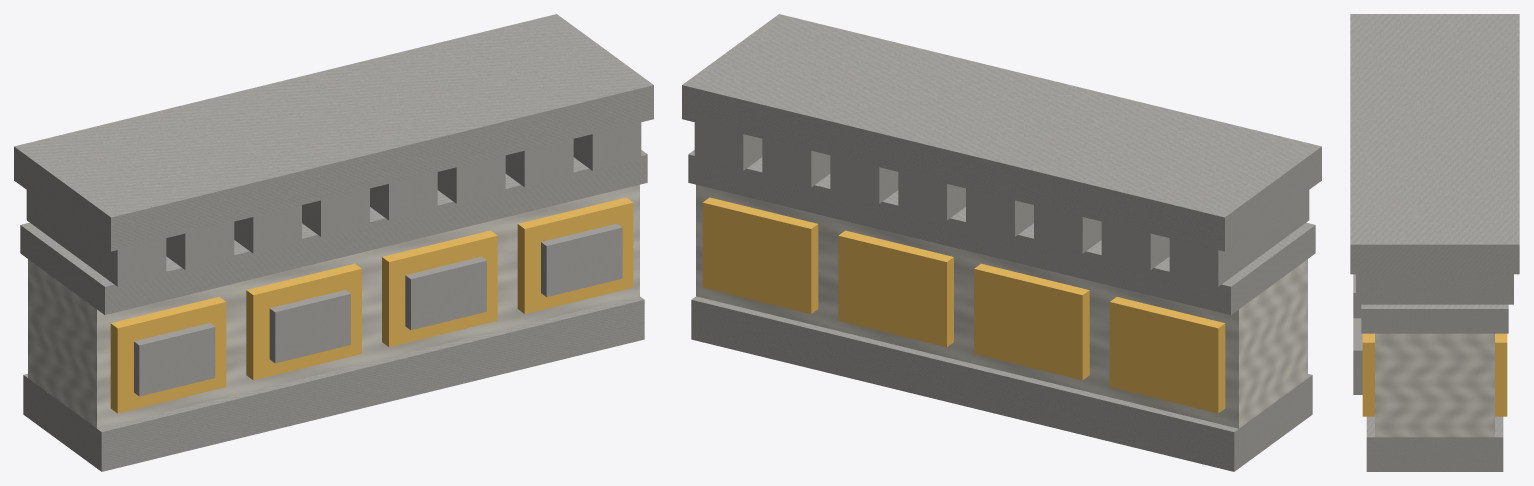
The model's file is indian-bazaar-street-and-temple-carved-tier-band-633e961b__36536.glb.
The picture shows the model from 3 angles, left to right: view 1: azimuth 30°, elevation 25°; view 2: azimuth 150°, elevation 25°; view 3: azimuth 270°, elevation 25°; orthographic projection. The views are drawn at different scales.
Visible parts, largest first — view 1: carved-tier-band-stone, carved-tier-band-plaster, carved-tier-band-saffron; view 2: carved-tier-band-stone, carved-tier-band-saffron, carved-tier-band-plaster; view 3: carved-tier-band-stone, carved-tier-band-plaster, carved-tier-band-saffron.
Part boxes in pixels (x1,y1,x2,y2): carved-tier-band-stone: (14, 14, 653, 471); carved-tier-band-plaster: (28, 184, 639, 428); carved-tier-band-saffron: (110, 197, 633, 413); carved-tier-band-stone: (682, 14, 1321, 471); carved-tier-band-saffron: (702, 197, 1225, 413); carved-tier-band-plaster: (696, 184, 1307, 428); carved-tier-band-stone: (1350, 14, 1519, 471); carved-tier-band-plaster: (1375, 333, 1494, 437); carved-tier-band-saffron: (1362, 333, 1507, 416).
Size of the model in its own units: 2 by 0.92 by 0.62.
Materials: 3 (2 with a texture image).
